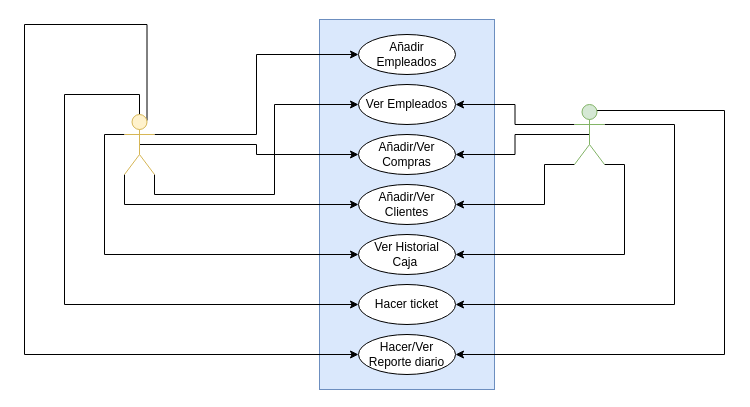
Image size: 750x407. Some labels were removed from this diagram. Each missing label, with the centre of its shape:
Empleado: point (589, 134)
Jefe: point (139, 144)
